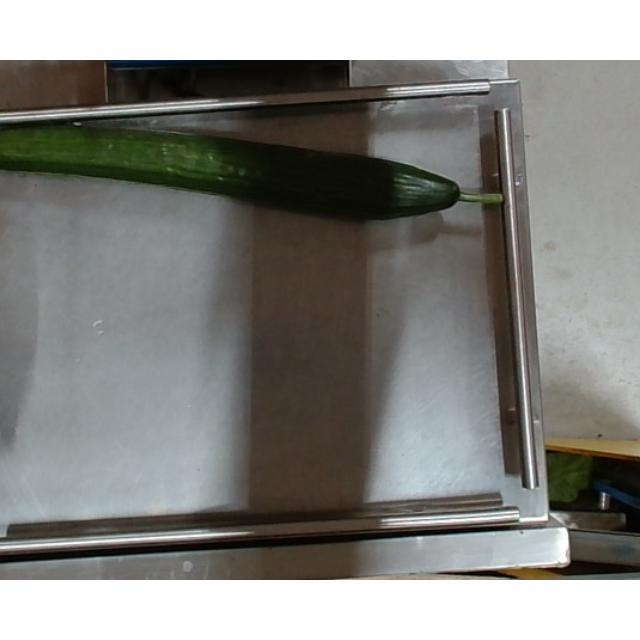cucumber: (0, 120, 504, 228)
